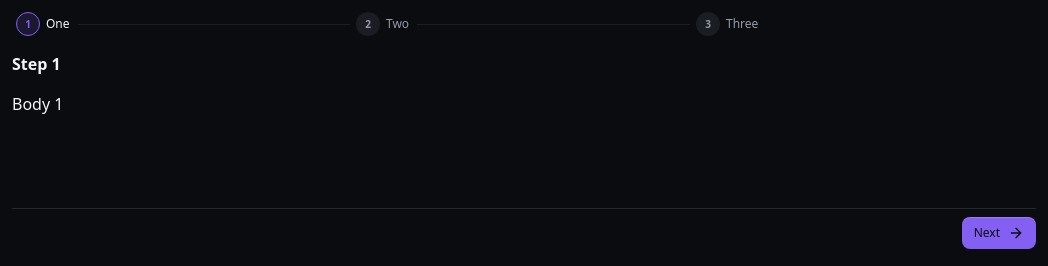
Test: Wizard — navigation › advances to next step on Next click
Click the button "Next": (999, 233) 962,217 -> 1036,249
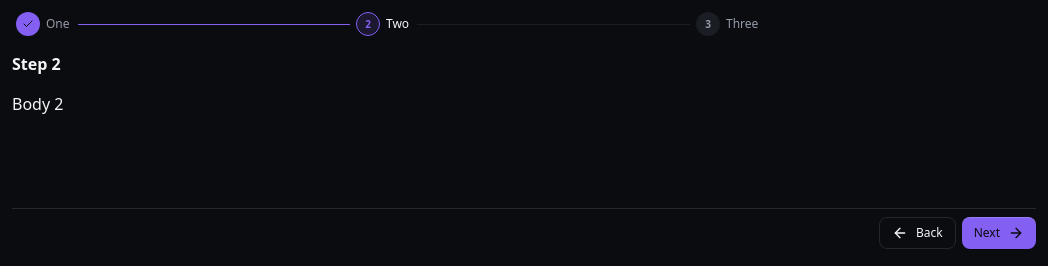
Expected: the text "Body 2" is shown, 12,93 -> 63,115
Expected: the button "Back" is shown, 879,217 -> 956,249
